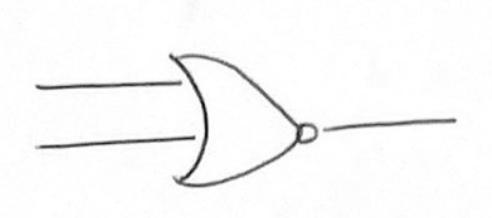NOR: (161, 39, 328, 197)
